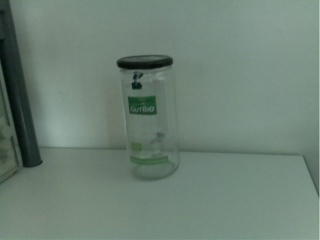pote cristal: (116, 55, 180, 180)
